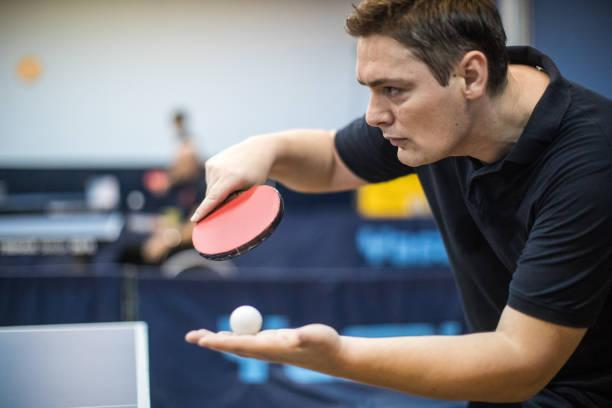ball_pingpong: (227, 306, 264, 336)
